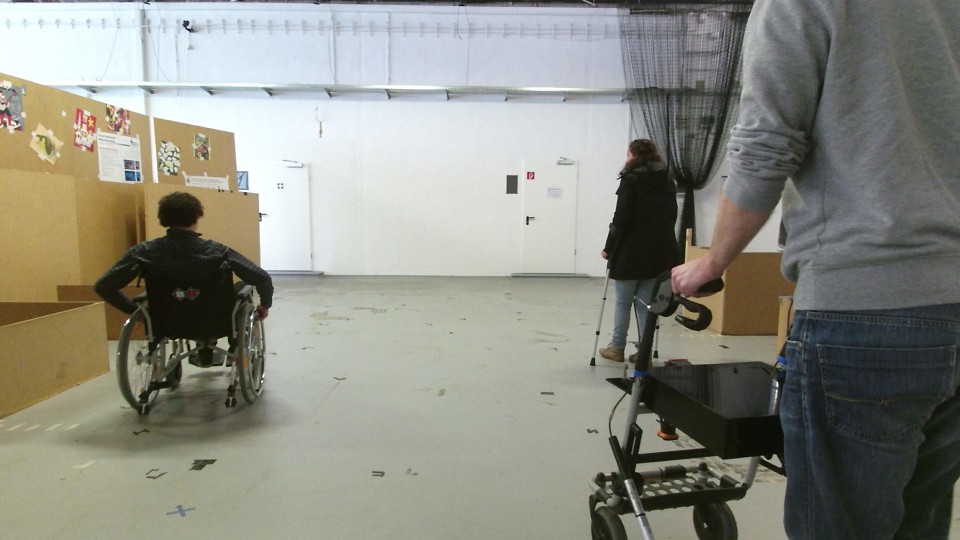crutches: (584, 133, 687, 372)
wheelchair: (89, 181, 281, 428)
